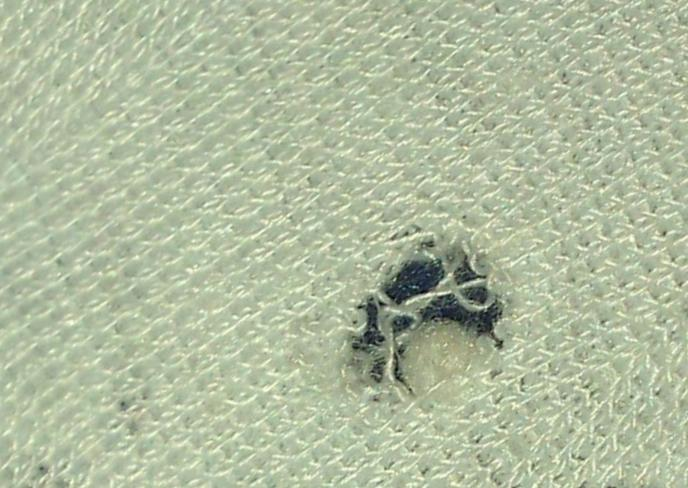hole: (380, 305, 511, 413)
